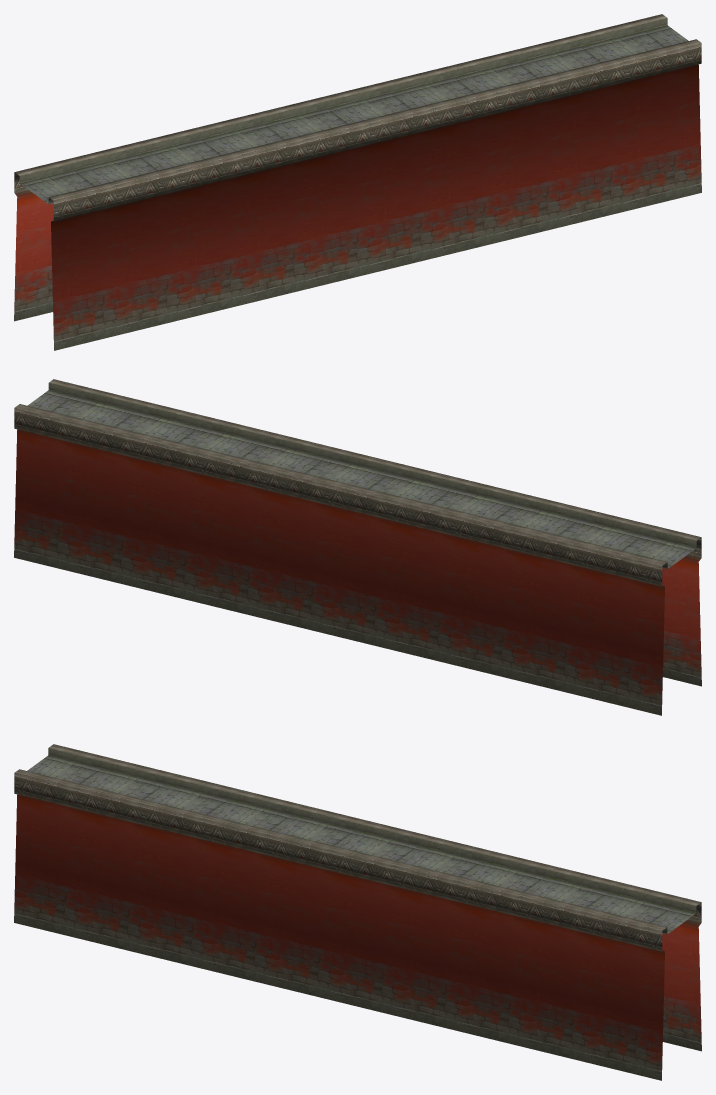
The model's file is environment_Building_qingsangcheng_001_a.FBX.
3 renders of one model, top to bottom at view 1: azimuth 30°, elevation 25°; view 2: azimuth 150°, elevation 25°; view 3: azimuth 330°, elevation 25°, orthographic.
Visible parts, largest first — view 1: environment_Building_qingsangcheng_001_a1, environment_Building_qingsangcheng_001_a2; view 2: environment_Building_qingsangcheng_001_a1, environment_Building_qingsangcheng_001_a2; view 3: environment_Building_qingsangcheng_001_a1, environment_Building_qingsangcheng_001_a2.
Part boxes in pixels (x1,y1,x2,y2): environment_Building_qingsangcheng_001_a1: [14, 14, 701, 350]; environment_Building_qingsangcheng_001_a2: [20, 25, 688, 204]; environment_Building_qingsangcheng_001_a1: [14, 379, 701, 715]; environment_Building_qingsangcheng_001_a2: [27, 390, 696, 568]; environment_Building_qingsangcheng_001_a1: [14, 744, 701, 1080]; environment_Building_qingsangcheng_001_a2: [27, 755, 695, 934].
Bounding box in the file's own units: 2118 × 227 × 468.
Materials: 2 (2 with a texture image).
